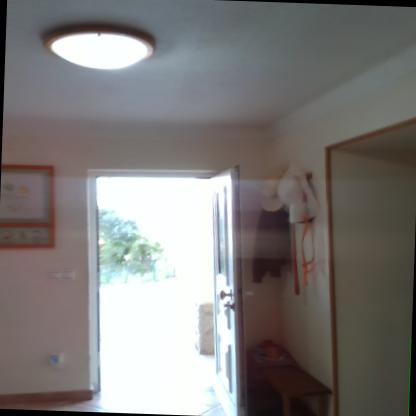closed: (308, 117, 416, 416)
open: (65, 163, 251, 415)
